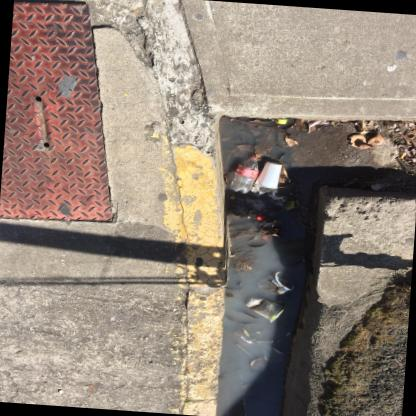Paper: (400, 152, 406, 158)
Plastic: (231, 183, 289, 216), (230, 152, 259, 193), (244, 295, 285, 322), (258, 271, 294, 294), (254, 160, 282, 188), (236, 343, 256, 359), (251, 356, 267, 368), (257, 214, 266, 220), (276, 119, 287, 123)
